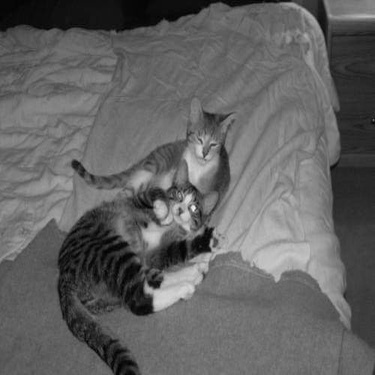cat: (51, 157, 223, 369), (68, 94, 236, 216)
